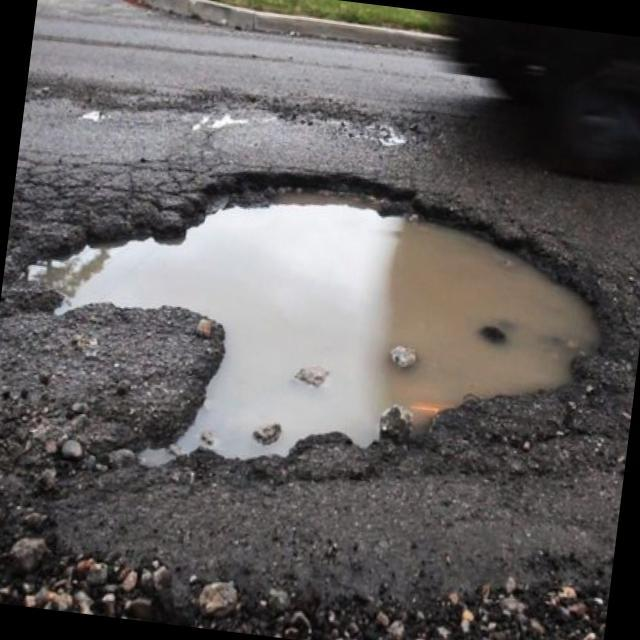Pothole: (0, 117, 639, 524)
